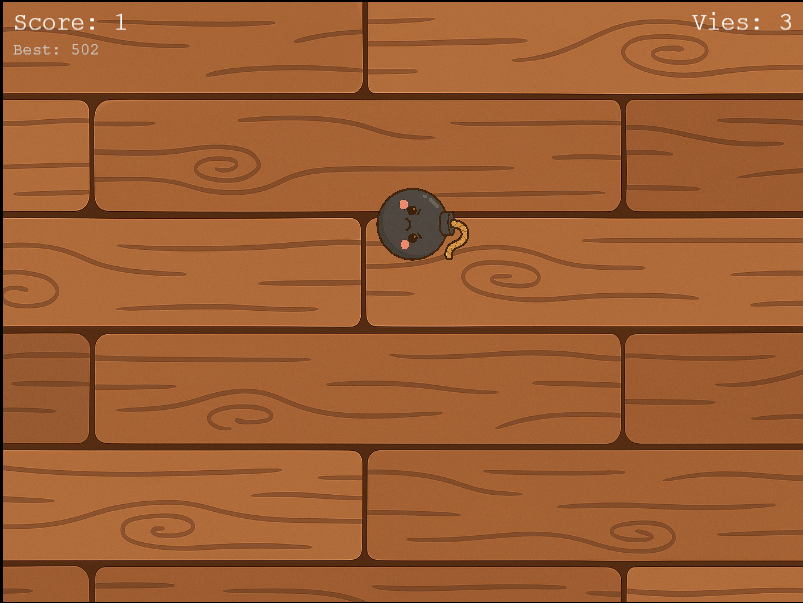bomb: (372, 185, 473, 272)
